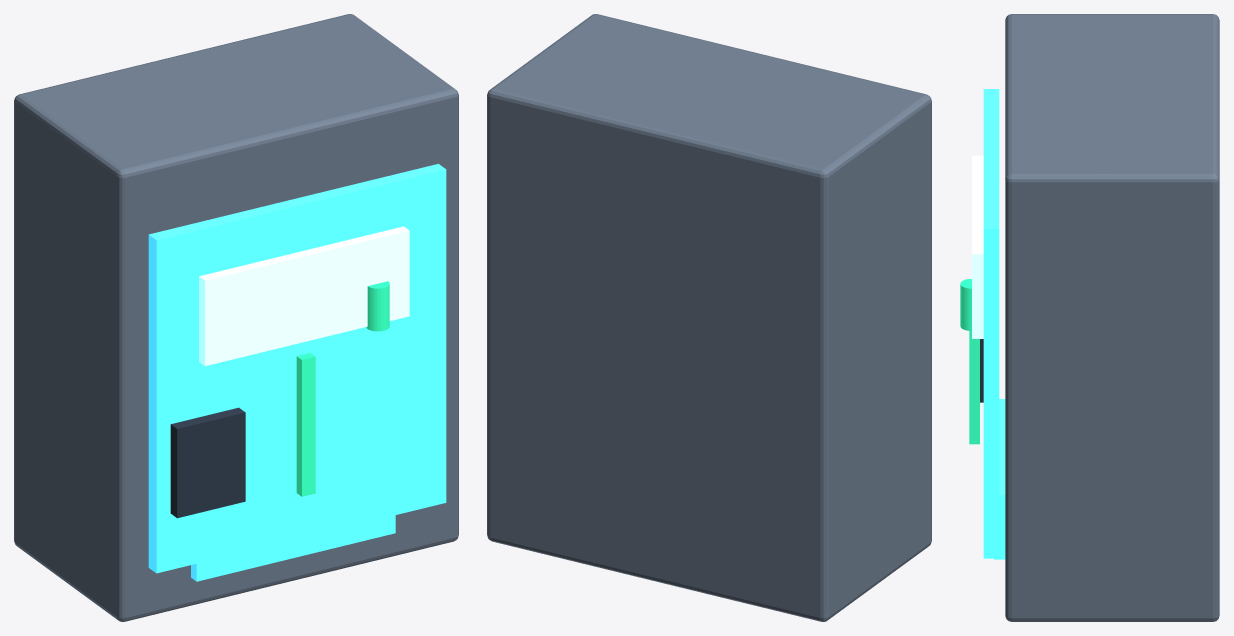
File: ice-machine-training.glb
3 renders of one model, left to right at view 1: azimuth 30°, elevation 25°; view 2: azimuth 150°, elevation 25°; view 3: azimuth 270°, elevation 25°, orthographic.
Visible parts, largest first — view 1: ICE_MACHINE_CABINET, SERVICE_PANEL, COMP_EVAPORATOR, COMP_CONTROL_BOARD, WATER_SUMP, COMP_SENSOR_HARNESS, COMP_TEMPERATURE_PROBE; view 2: ICE_MACHINE_CABINET; view 3: ICE_MACHINE_CABINET, SERVICE_PANEL, COMP_EVAPORATOR, COMP_SENSOR_HARNESS, WATER_SUMP, COMP_TEMPERATURE_PROBE.
Part boxes in pixels (<box>): ICE_MACHINE_CABINET: <box>14,14,458,621</box>; SERVICE_PANEL: <box>148,164,446,573</box>; COMP_EVAPORATOR: <box>199,226,409,366</box>; COMP_CONTROL_BOARD: <box>170,407,245,518</box>; WATER_SUMP: <box>191,515,395,581</box>; COMP_SENSOR_HARNESS: <box>296,353,315,496</box>; COMP_TEMPERATURE_PROBE: <box>366,281,389,331</box>; ICE_MACHINE_CABINET: <box>487,14,931,621</box>; ICE_MACHINE_CABINET: <box>1005,14,1219,621</box>; SERVICE_PANEL: <box>983,89,999,558</box>; COMP_EVAPORATOR: <box>972,155,983,338</box>; COMP_SENSOR_HARNESS: <box>969,331,979,444</box>; WATER_SUMP: <box>994,399,1005,559</box>; COMP_TEMPERATURE_PROBE: <box>960,278,971,330</box>.
Size of the model in its own units: 3 by 3.8 by 2.
